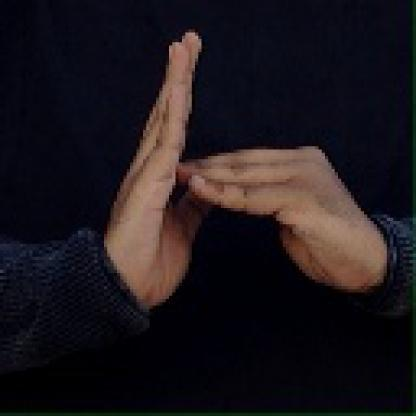Z: (85, 28, 363, 301)
